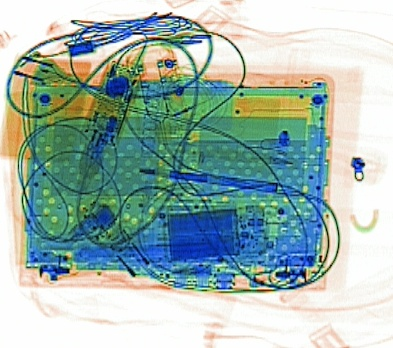powerbank: (164, 203, 270, 266)
